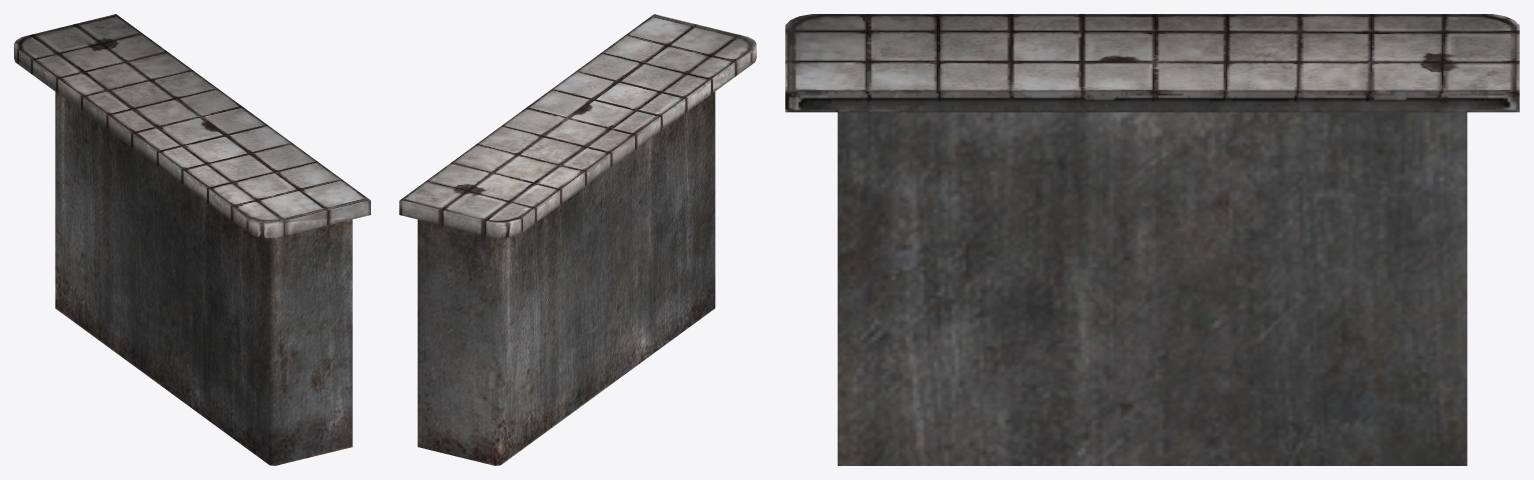
Rendered from Lab Counter Cap.obj.
3 renders of one model, left to right at view 1: azimuth 30°, elevation 25°; view 2: azimuth 150°, elevation 25°; view 3: azimuth 270°, elevation 25°, orthographic. The views are drawn at different scales.
Visible parts, largest first — view 1: ABY_LabCounter_Cap; view 2: ABY_LabCounter_Cap; view 3: ABY_LabCounter_Cap.
Part boxes in pixels (x1,y1,x2,y2): ABY_LabCounter_Cap: [14, 14, 370, 465]; ABY_LabCounter_Cap: [399, 14, 756, 465]; ABY_LabCounter_Cap: [785, 14, 1519, 465].
Bounding box in the file's own units: 32 × 72 × 128.
1 material, 1 textured.
